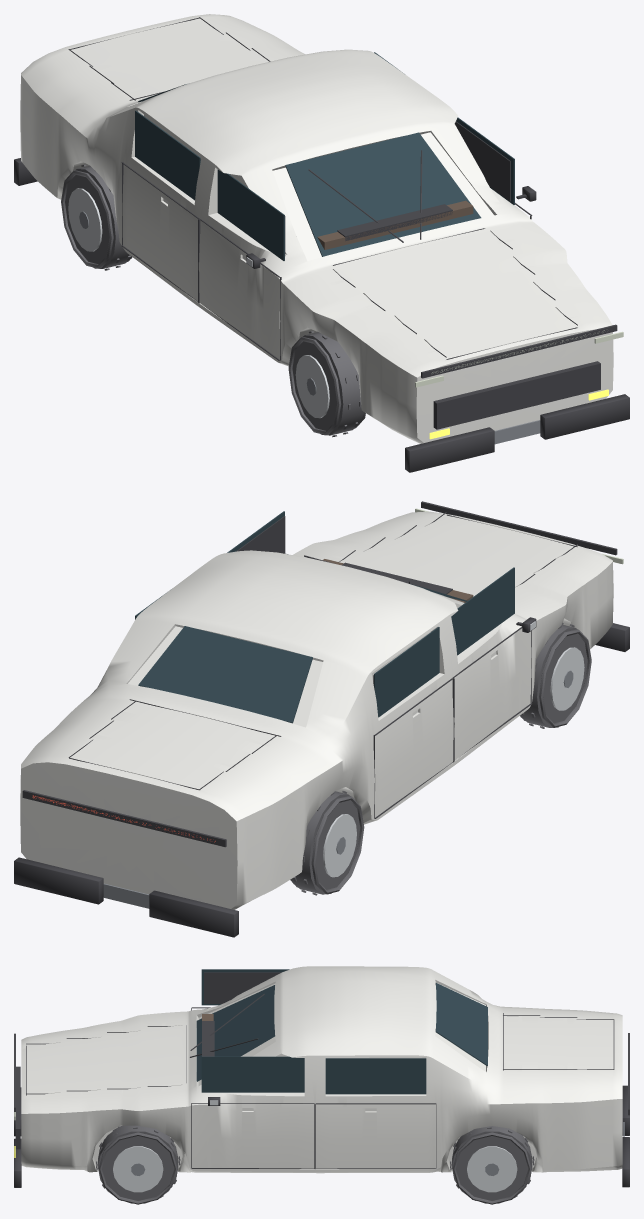
File: Sedan_Mid_A_White.fbx
3 renders of one model, top to bottom at view 1: azimuth 30°, elevation 25°; view 2: azimuth 150°, elevation 25°; view 3: azimuth 270°, elevation 25°, orthographic. The views are drawn at different scales.
Visible parts, largest first — view 1: LOD0; view 2: LOD0; view 3: LOD0.
Boxes of the visible parts, x1=… form: LOD0: x1=14, y1=14, x2=629, y2=472; LOD0: x1=14, y1=501, x2=629, y2=937; LOD0: x1=14, y1=966, x2=629, y2=1204.
Size of what is drawn, in the model's own units: 204 by 144 by 491.
